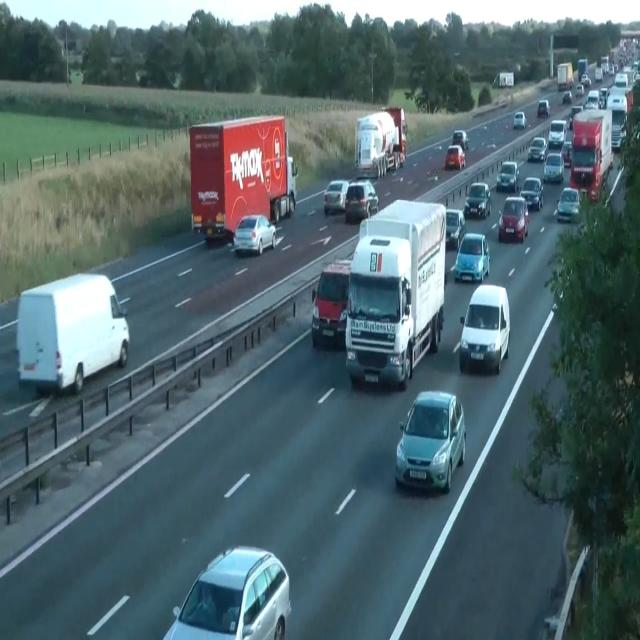bus: (162, 544, 291, 639), (394, 389, 466, 494), (232, 213, 276, 255), (454, 232, 490, 283), (345, 179, 379, 223), (498, 195, 529, 242), (463, 181, 491, 219), (322, 180, 350, 215), (554, 187, 580, 222), (518, 176, 544, 211), (445, 208, 465, 248), (495, 160, 519, 192), (543, 152, 564, 182), (444, 144, 466, 170), (606, 88, 627, 112), (528, 136, 547, 162), (452, 129, 468, 150), (569, 105, 583, 129), (560, 141, 572, 167), (611, 124, 622, 152), (584, 90, 600, 109), (537, 99, 551, 117), (513, 110, 526, 129), (614, 72, 628, 88), (599, 87, 609, 109), (562, 90, 572, 104), (581, 73, 591, 86), (595, 67, 603, 81), (576, 84, 584, 96)
jeep: (459, 283, 510, 373), (310, 258, 352, 349), (548, 118, 566, 148)
minibus: (344, 198, 446, 388), (16, 272, 130, 396), (189, 113, 298, 240), (569, 108, 613, 202), (354, 111, 396, 178), (380, 106, 408, 169), (557, 62, 573, 91), (492, 71, 514, 88), (578, 58, 588, 81)
